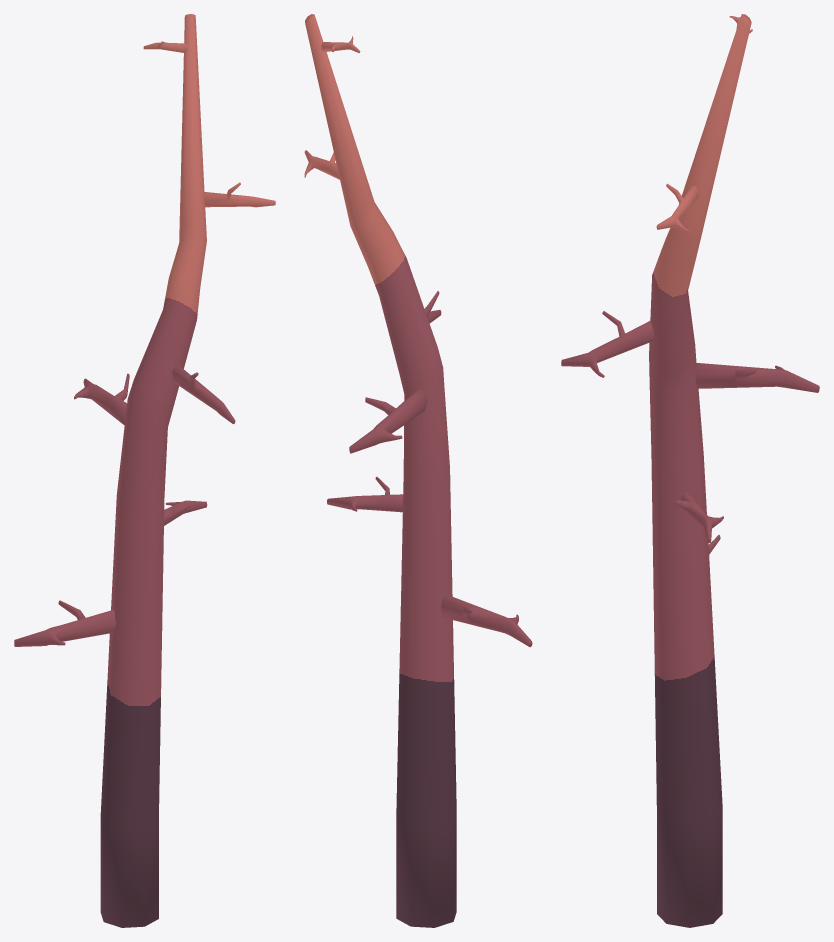
Rendered from tree08.glb.
The picture shows the model from 3 angles, left to right: view 1: azimuth 30°, elevation 25°; view 2: azimuth 150°, elevation 25°; view 3: azimuth 270°, elevation 25°; orthographic projection. The views are drawn at different scales.
Parts seen in each view (by area): view 1: Tree08; view 2: Tree08; view 3: Tree08.
Part boxes in pixels (left/top/right/bottom): Tree08: left=14, top=14, right=275, bottom=927; Tree08: left=304, top=14, right=532, bottom=927; Tree08: left=561, top=14, right=819, bottom=927.
Size of the model in its own units: 6.81 by 23.38 by 5.79.
1 material, 1 textured.
